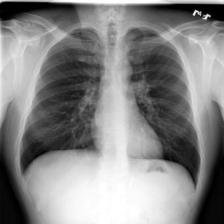normal: (13, 20, 206, 197)
